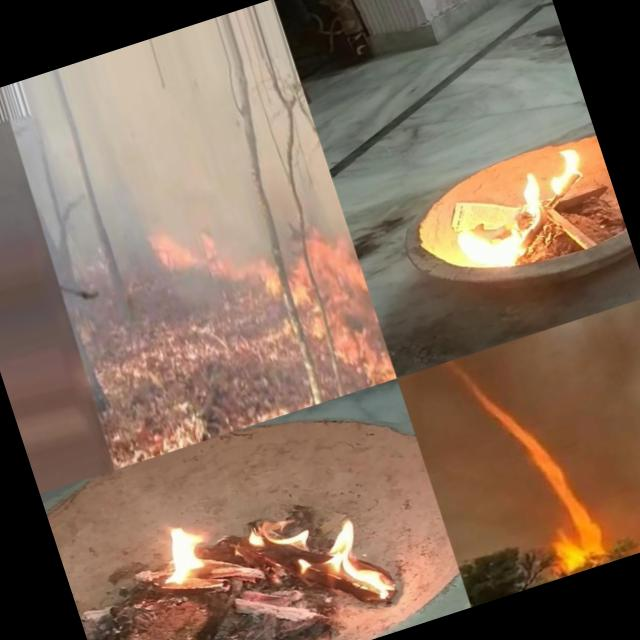fire: (434, 132, 618, 288), (240, 482, 401, 637), (304, 227, 396, 390), (128, 509, 229, 604), (142, 210, 230, 298), (541, 509, 621, 575), (281, 249, 331, 347), (496, 411, 560, 479), (459, 377, 514, 432), (246, 252, 287, 314), (434, 354, 480, 394)
smoke: (518, 296, 640, 476), (437, 426, 536, 562), (595, 436, 640, 544)
